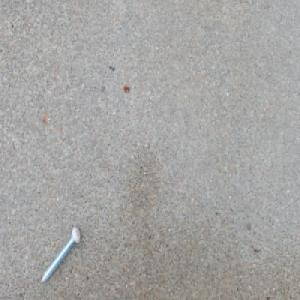Nail: (40, 224, 81, 284)
